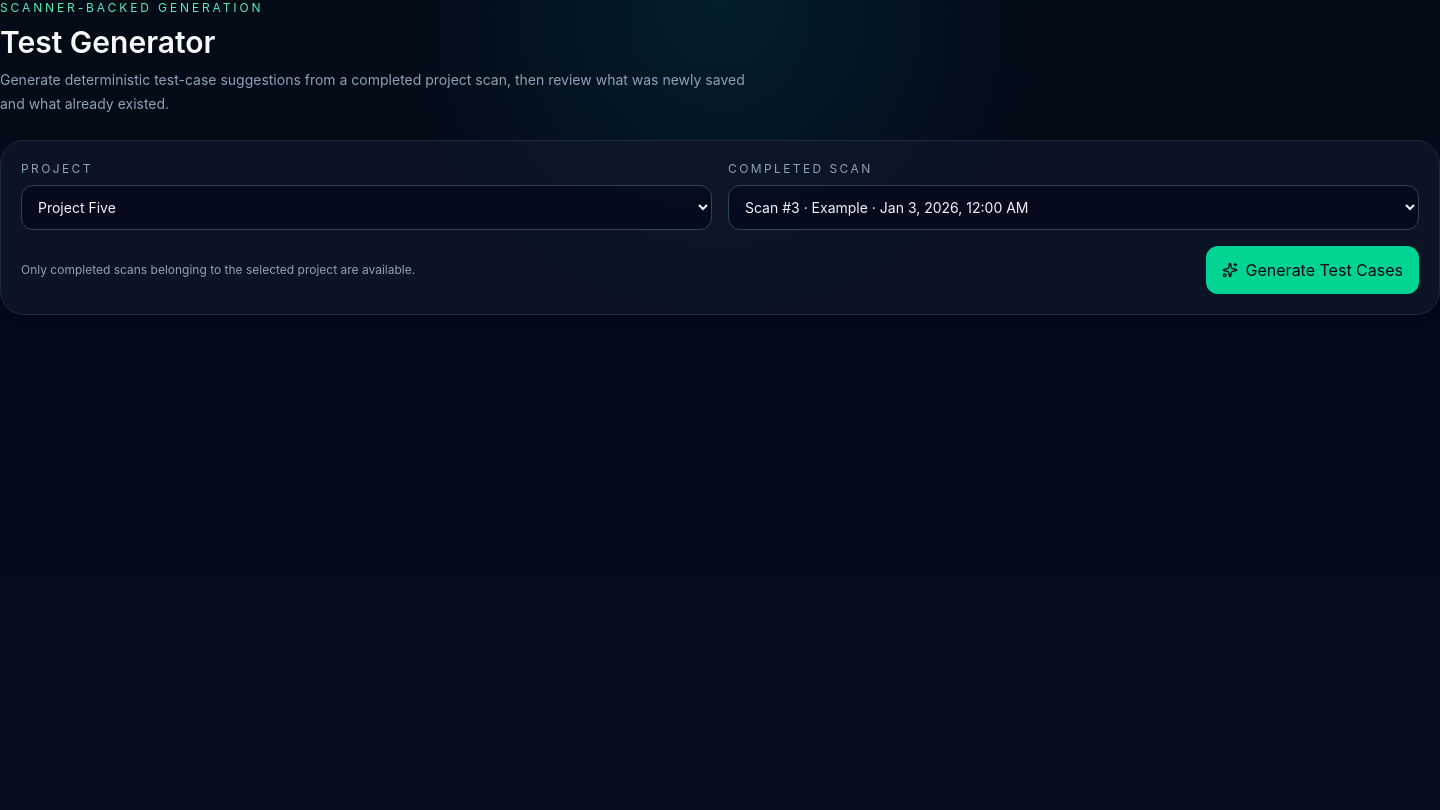
Test: separate generator and saved inventory pages › generates from a completed selected scan and distinguishes inserts from duplicates
Later steps or results of the test are not shown.
Click the button "Generate Test Cases".
click(1312, 270)  # box [1206,246,1419,294]
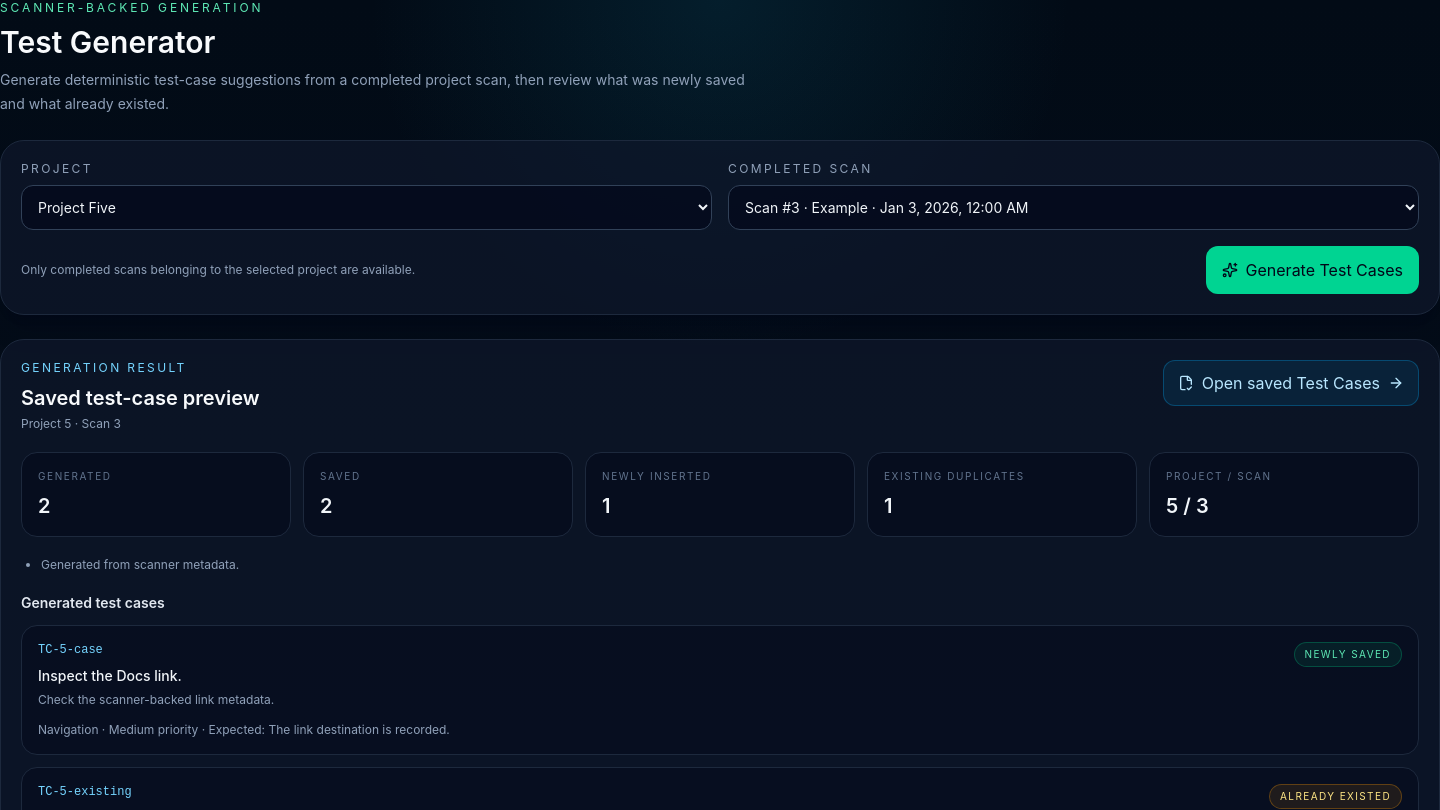
Now the text "Newly saved" is shown, box [1294,642,1402,667]
Now the text "Already existed" is shown, box [1269,784,1402,809]
Now the text "Generated" is shown, box [38,470,112,482]
